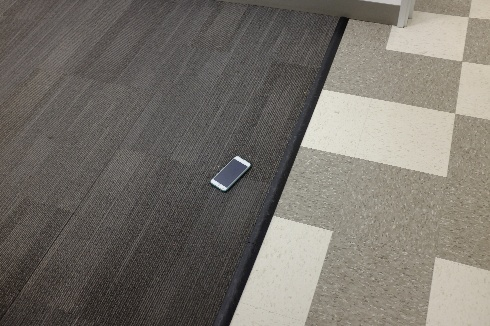phone: (206, 157, 255, 189)
